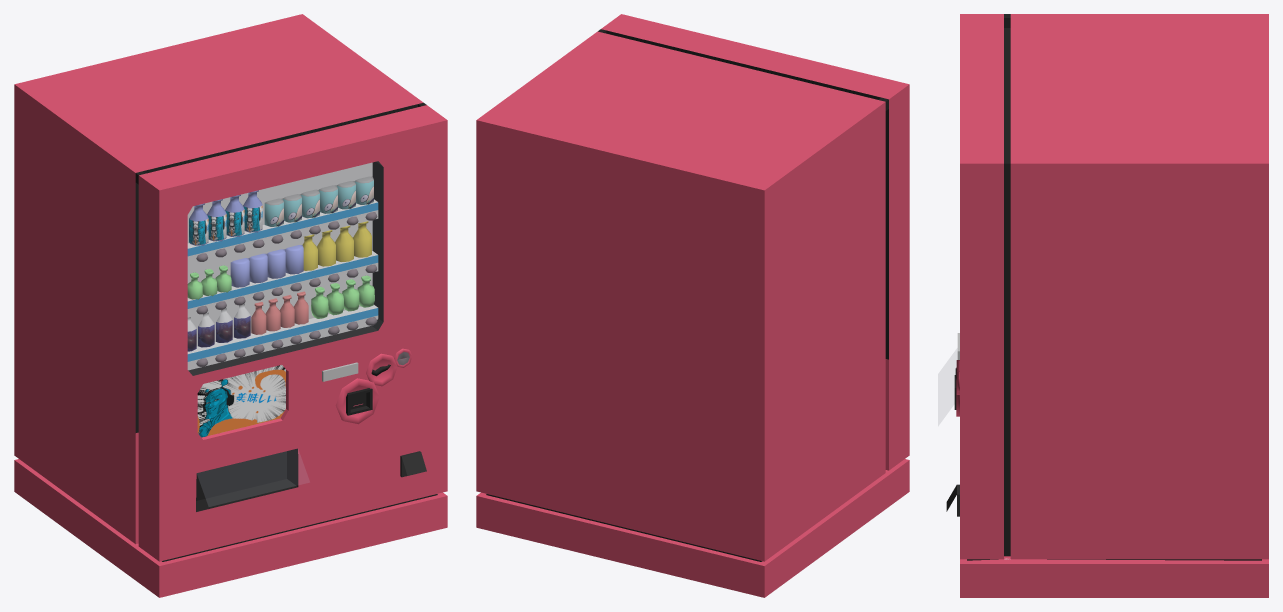
The model's file is vendingmachine.fbx.
The picture shows the model from 3 angles, left to right: view 1: azimuth 30°, elevation 25°; view 2: azimuth 150°, elevation 25°; view 3: azimuth 270°, elevation 25°; orthographic projection. The views are drawn at different scales.
Parts seen in each view (by area): view 1: Cube.019, Cube.034, Cube.027, Cube.022, Cube.023, Cube.020, Cube.021, Cube.033, Cube.026, Cube.025, Cube.030, Cube.029 (+5 smaller); view 2: Cube.019; view 3: Cube.019.
Part boxes in pixels (x1=…): Cube.019: x1=14, y1=14, x2=447, y2=597; Cube.034: x1=188, y1=162, x2=382, y2=374; Cube.027: x1=187, y1=305, x2=378, y2=370; Cube.022: x1=264, y1=176, x2=373, y2=226; Cube.023: x1=187, y1=251, x2=378, y2=317; Cube.020: x1=187, y1=199, x2=378, y2=264; Cube.021: x1=189, y1=190, x2=262, y2=245; Cube.033: x1=196, y1=212, x2=377, y2=366; Cube.026: x1=302, y1=221, x2=371, y2=270; Cube.025: x1=230, y1=245, x2=303, y2=287; Cube.030: x1=187, y1=304, x2=250, y2=351; Cube.029: x1=311, y1=275, x2=374, y2=318; Cube.019: x1=476, y1=14, x2=909, y2=597; Cube.019: x1=938, y1=14, x2=1268, y2=597.
Bounding box in the file's own units: 148 × 200 × 138.
